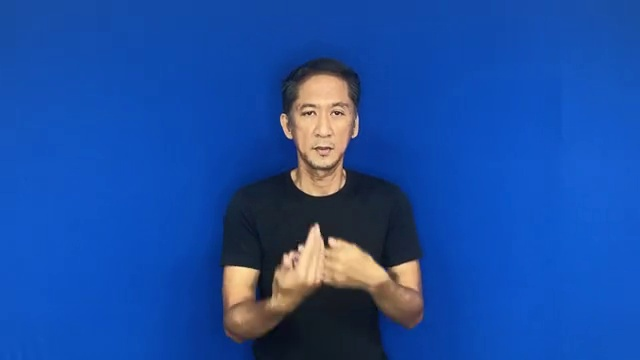bread: (267, 214, 383, 313)
